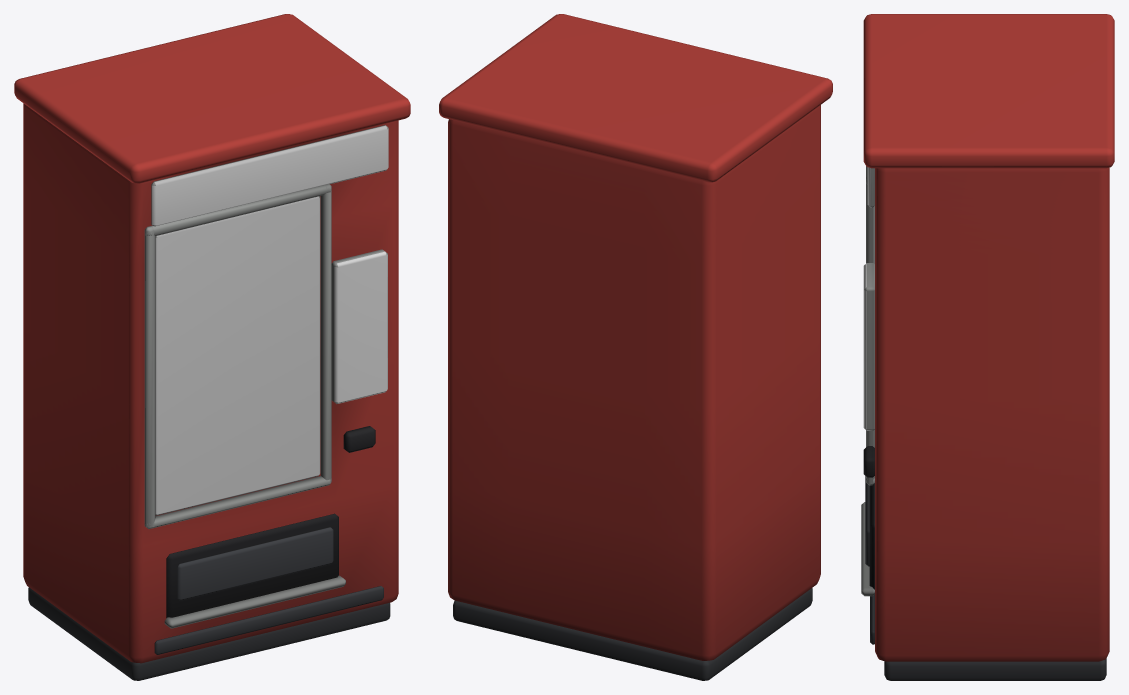
Rendered from VendingRed.fbx.
3 renders of one model, left to right at view 1: azimuth 30°, elevation 25°; view 2: azimuth 150°, elevation 25°; view 3: azimuth 270°, elevation 25°, orthographic. The views are drawn at different scales.
Parts seen in each view (by area): view 1: VendingRed; view 2: VendingRed; view 3: VendingRed.
Boxes of the visible parts, x1,y1,x2,y2 form: VendingRed: (14,14,410,680); VendingRed: (439,14,832,680); VendingRed: (861,14,1114,680).
Bounding box in the file's own units: 1.04 × 1.86 × 0.7975.
